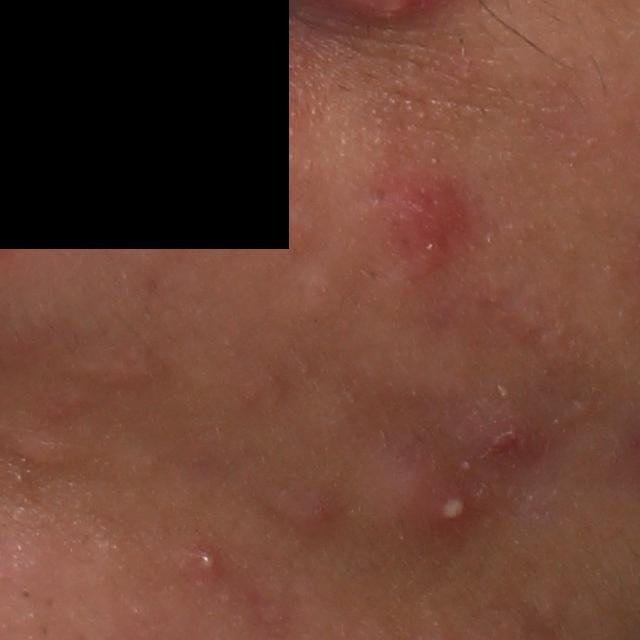hypertrophic_scar: (56, 347, 176, 396)
papule: (374, 464, 444, 537), (395, 177, 470, 245), (481, 421, 529, 466), (285, 496, 335, 536)
pustule: (187, 544, 222, 578), (438, 490, 471, 523)
